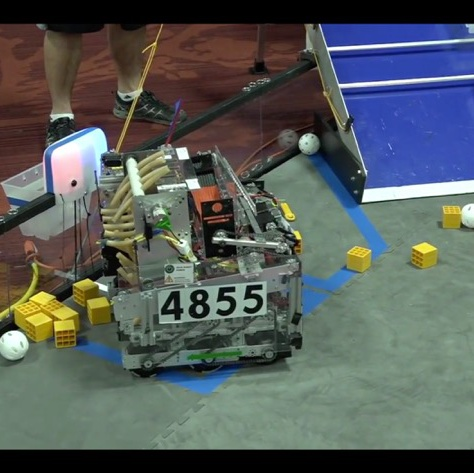robot: (90, 139, 309, 378)
